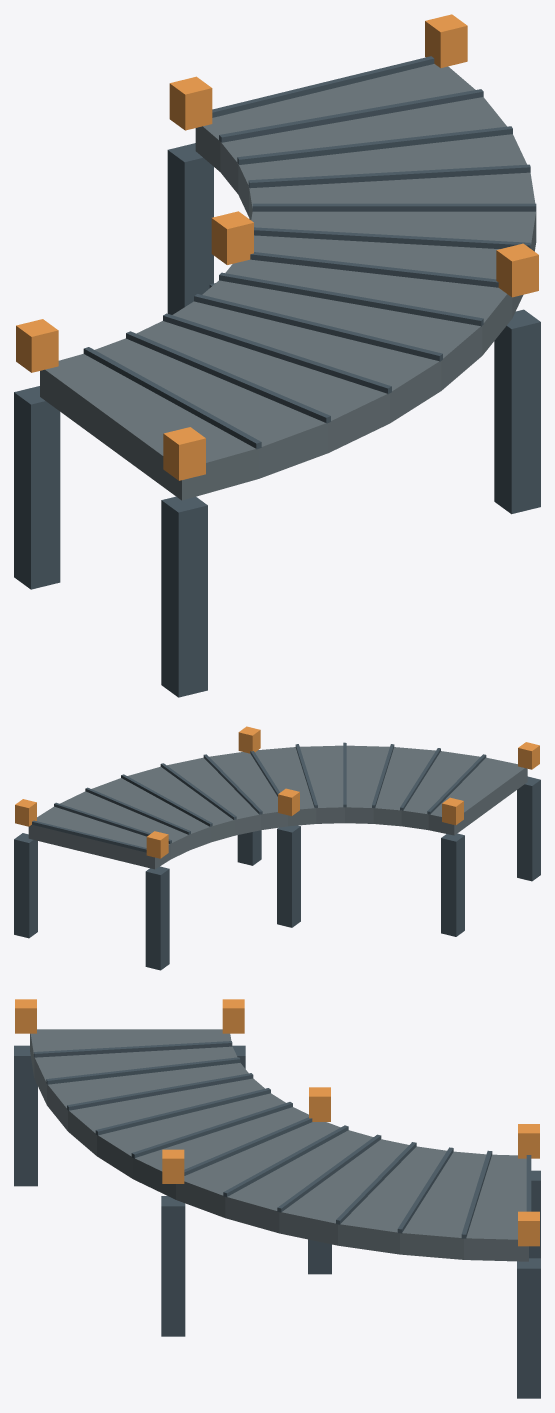
File: quarter-turn-conveyor.glb
3 renders of one model, top to bottom at view 1: azimuth 30°, elevation 25°; view 2: azimuth 150°, elevation 25°; view 3: azimuth 270°, elevation 25°, orthographic. The views are drawn at different scales.
Visible parts, largest first — view 1: rubber, dark, orange; view 2: rubber, dark, orange; view 3: rubber, dark, orange.
Part boxes in pixels (left/top/right/bottom): rubber: left=40, top=64, right=536, bottom=500; dark: left=14, top=56, right=540, bottom=697; orange: left=16, top=14, right=538, bottom=480; rubber: left=28, top=745, right=527, bottom=869; dark: left=14, top=742, right=540, bottom=970; orange: left=15, top=726, right=539, bottom=858; rubber: left=30, top=1029, right=528, bottom=1261; dark: left=14, top=1041, right=540, bottom=1398; orange: left=15, top=999, right=539, bottom=1246.
Size of the model in its own units: 2.64 by 0.98 by 2.64.
